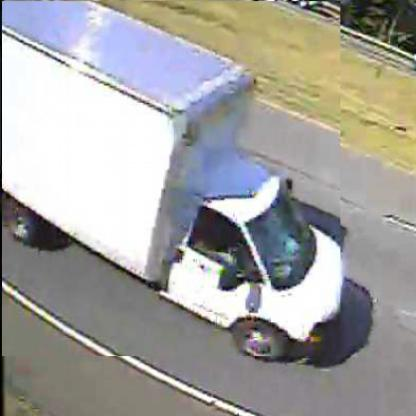truck: (3, 2, 342, 358)
